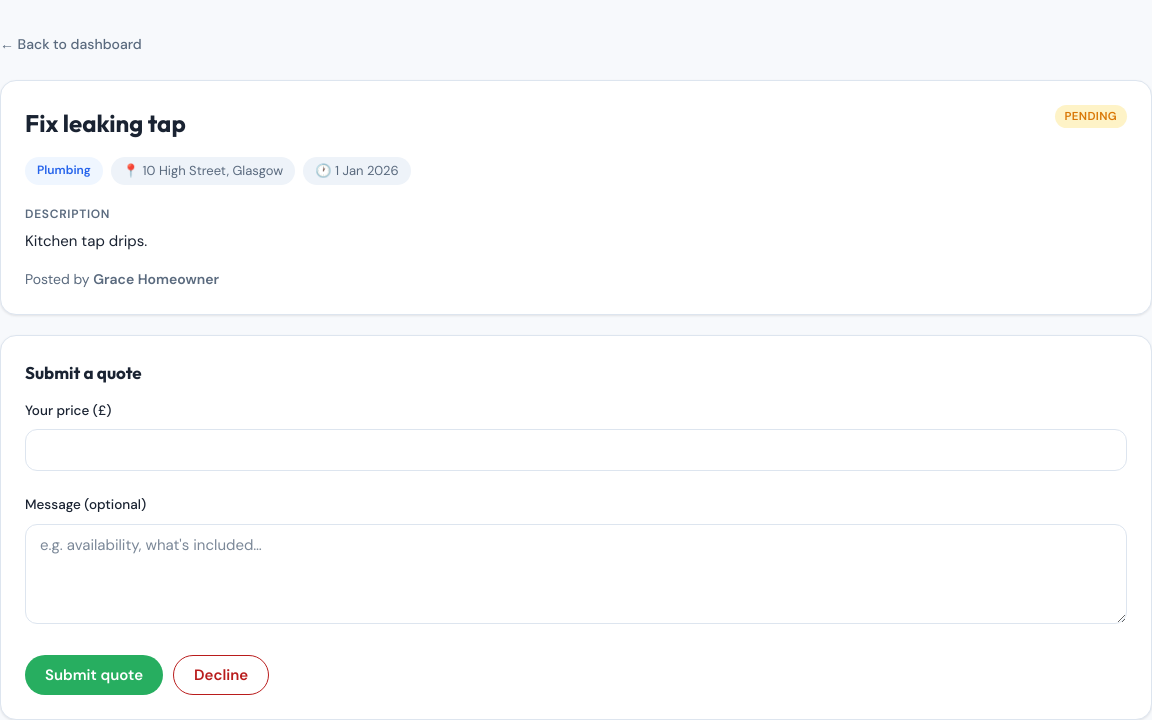
it: JobDetail page › rejects an empty price when submitting a quote
The image size is (1152, 720).
Expected: the heading "Fix leaking tap" is shown, x1=25 y1=105 x2=186 y2=141
Click the button "Submit quote" at (94, 674), box x1=25 y1=654 x2=163 y2=694
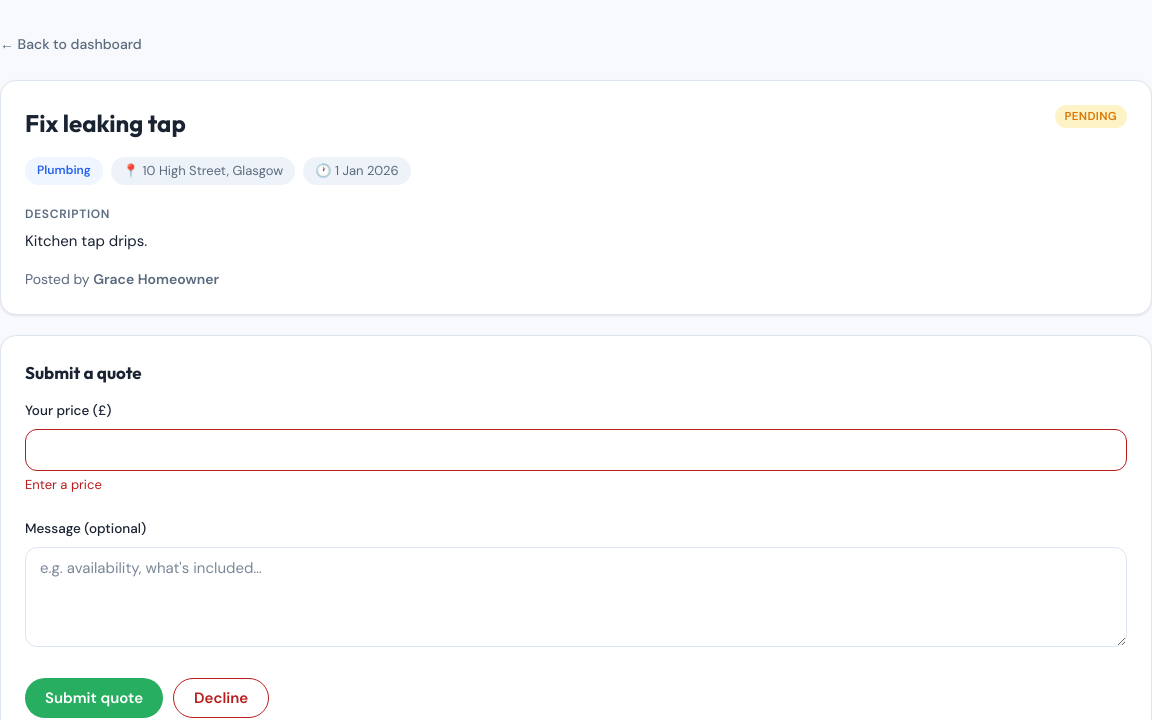
Result: the text "Enter a price" is shown at x1=25 y1=476 x2=102 y2=493
